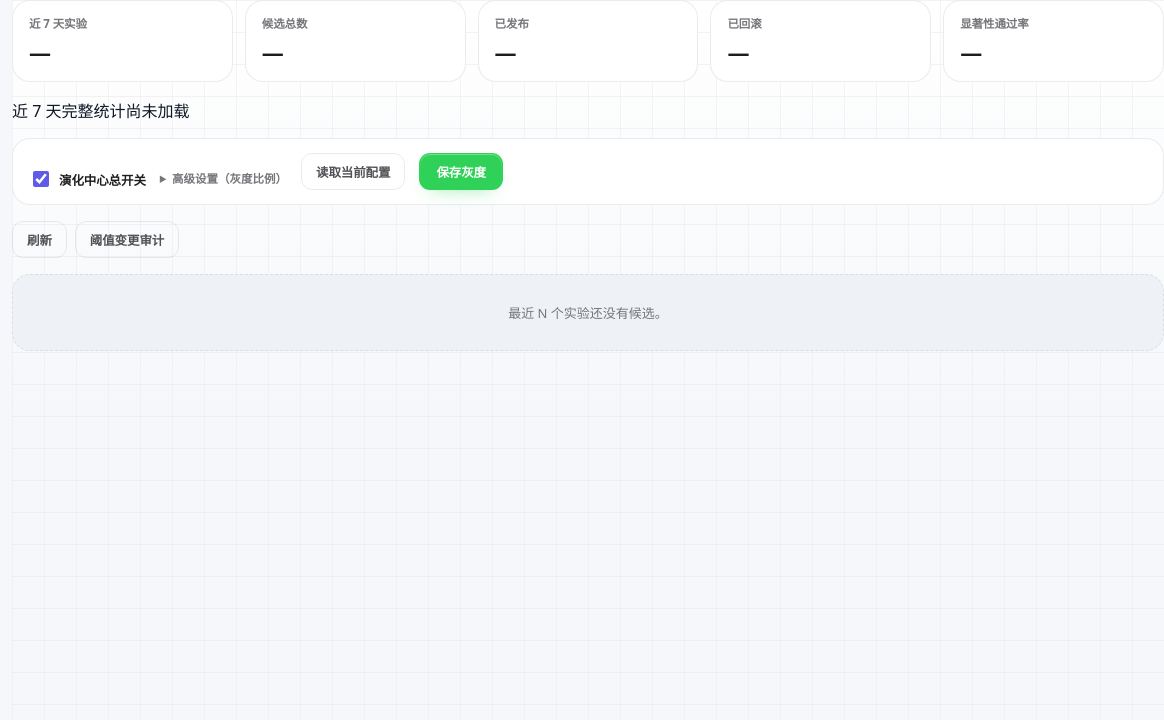
Test: EvolutionCenterTab › 审计为空时显示暂无审计记录
Click the button "阈值变更审计": (127, 240) [75,221,179,258]
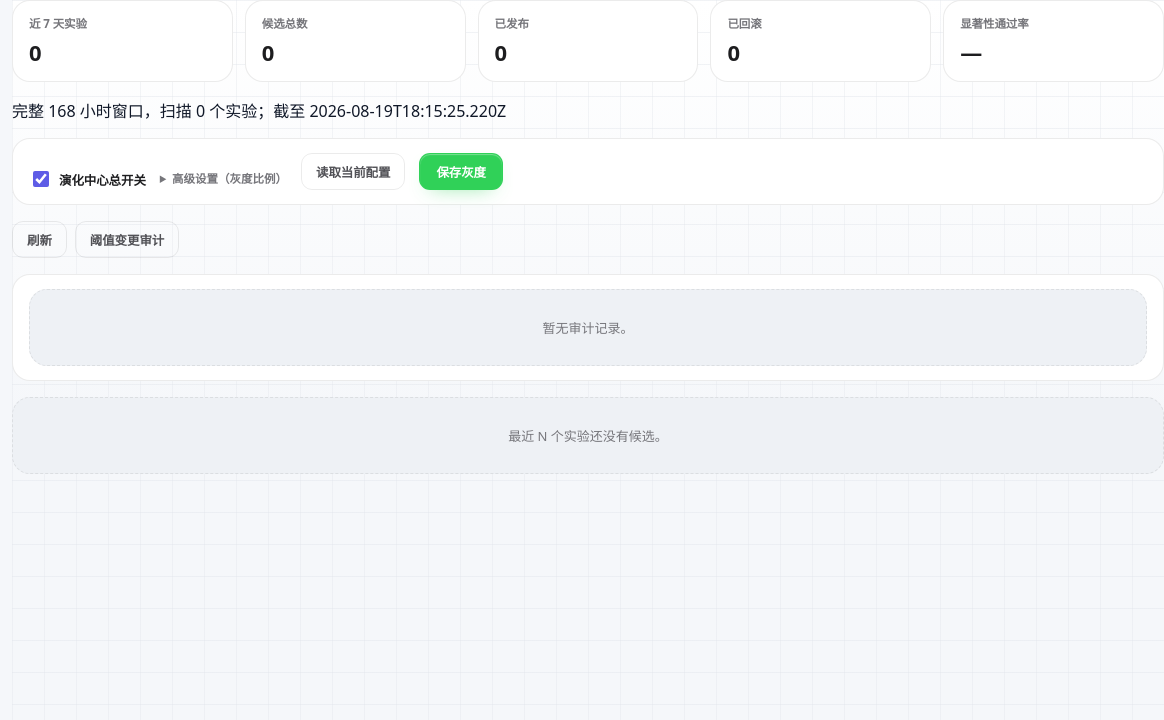
Expected: the text "暂无审计记录。" is shown, [29,289,1147,366]
Expected: the text with test id "threshold-audit-empty" shows "暂无审计记录", [542,319,634,337]
